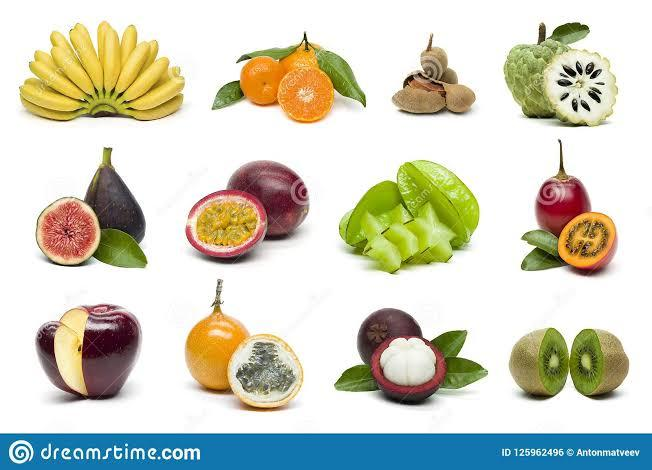chuoi: (18, 17, 186, 121)
